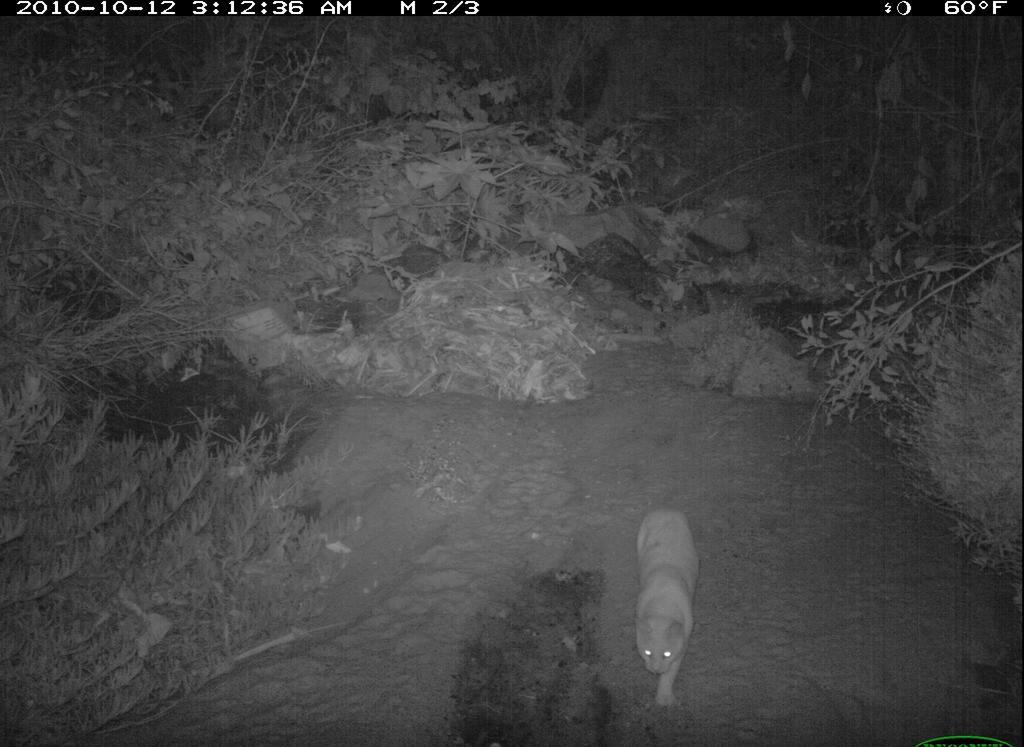cat: (628, 502, 705, 719)
